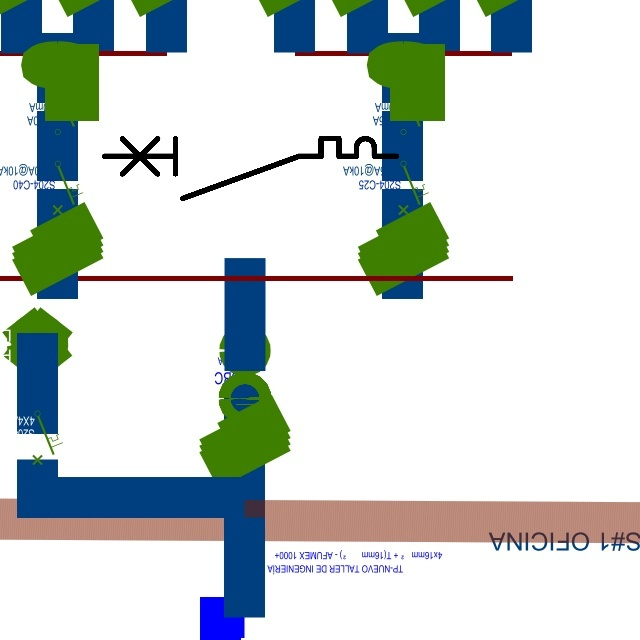interruptor_termomagnetico: (97, 131, 404, 206)
